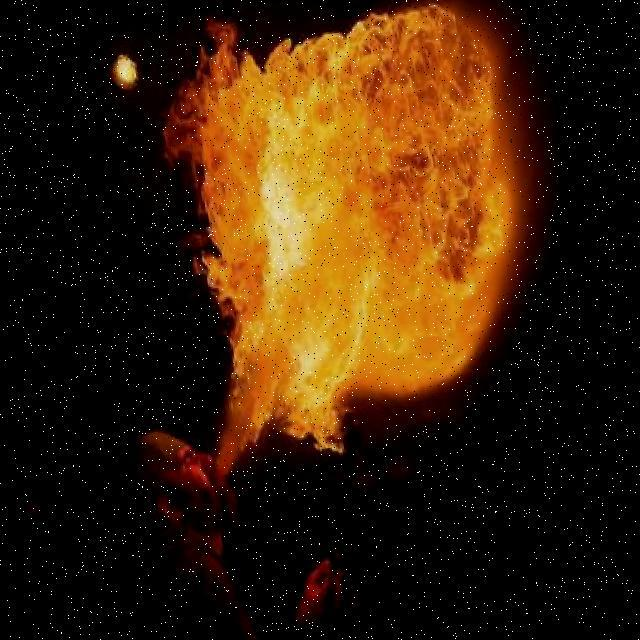Fire: (143, 0, 549, 466)
